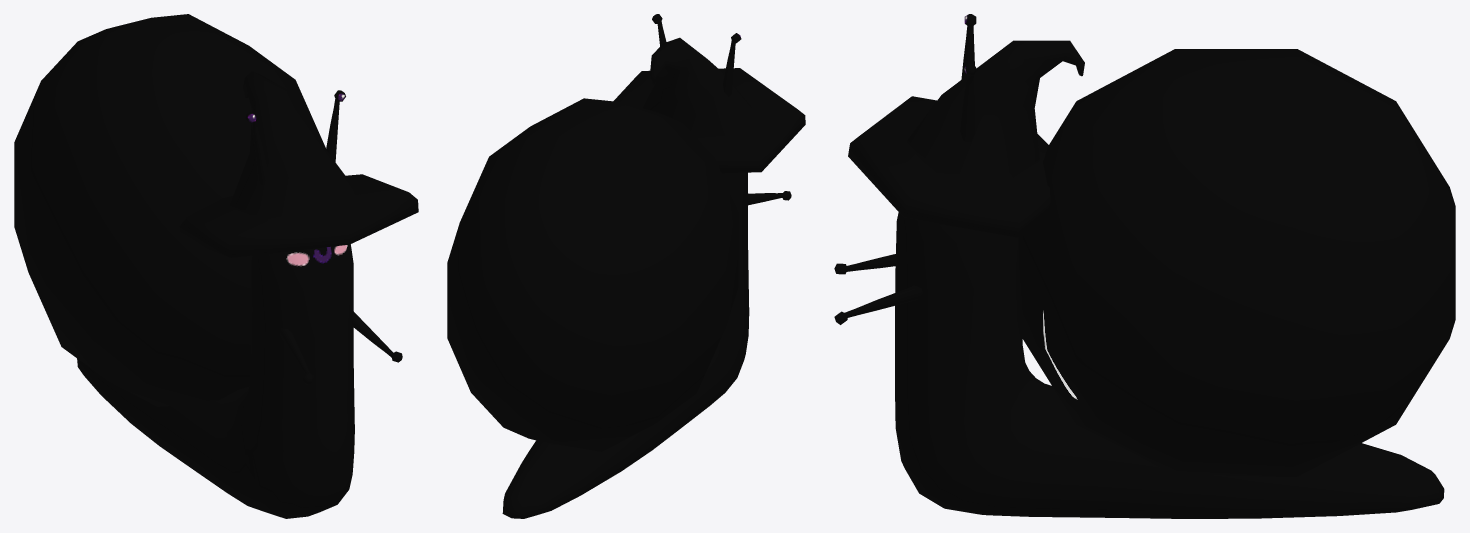
Rendered from snummoner.glb.
3 views of the same model, side by side, from view 1: azimuth 30°, elevation 25°; view 2: azimuth 150°, elevation 25°; view 3: azimuth 270°, elevation 25° (orthographic). The views are drawn at different scales.
Parts seen in each view (by area): view 1: Roundcube.002, Cube, Cylinder.003, Cylinder.001, Cylinder.002; view 2: Roundcube.002, Cylinder.003, Cube, Cylinder.001; view 3: Roundcube.002, Cube, Cylinder.003, Cylinder.002, Cylinder.001.
Boxes of the visible parts, x1=… form: Roundcube.002: x1=14, y1=14, x2=325, y2=406; Cube: x1=77, y1=244, x2=354, y2=518; Cylinder.003: x1=179, y1=71, x2=418, y2=257; Cylinder.001: x1=245, y1=90, x2=345, y2=184; Cylinder.002: x1=280, y1=311, x2=402, y2=384; Roundcube.002: x1=447, y1=98, x2=738, y2=451; Cylinder.003: x1=613, y1=37, x2=805, y2=173; Cube: x1=502, y1=172, x2=749, y2=518; Cylinder.001: x1=652, y1=14, x2=741, y2=96; Roundcube.002: x1=1018, y1=49, x2=1455, y2=476; Cube: x1=895, y1=212, x2=1444, y2=518; Cylinder.003: x1=848, y1=40, x2=1084, y2=237; Cylinder.002: x1=834, y1=254, x2=922, y2=324; Cylinder.001: x1=960, y1=14, x2=976, y2=142.
Bounding box in the file's own units: 0.1375 × 0.2194 × 0.2649.
Materials: 1 (1 with a texture image).
